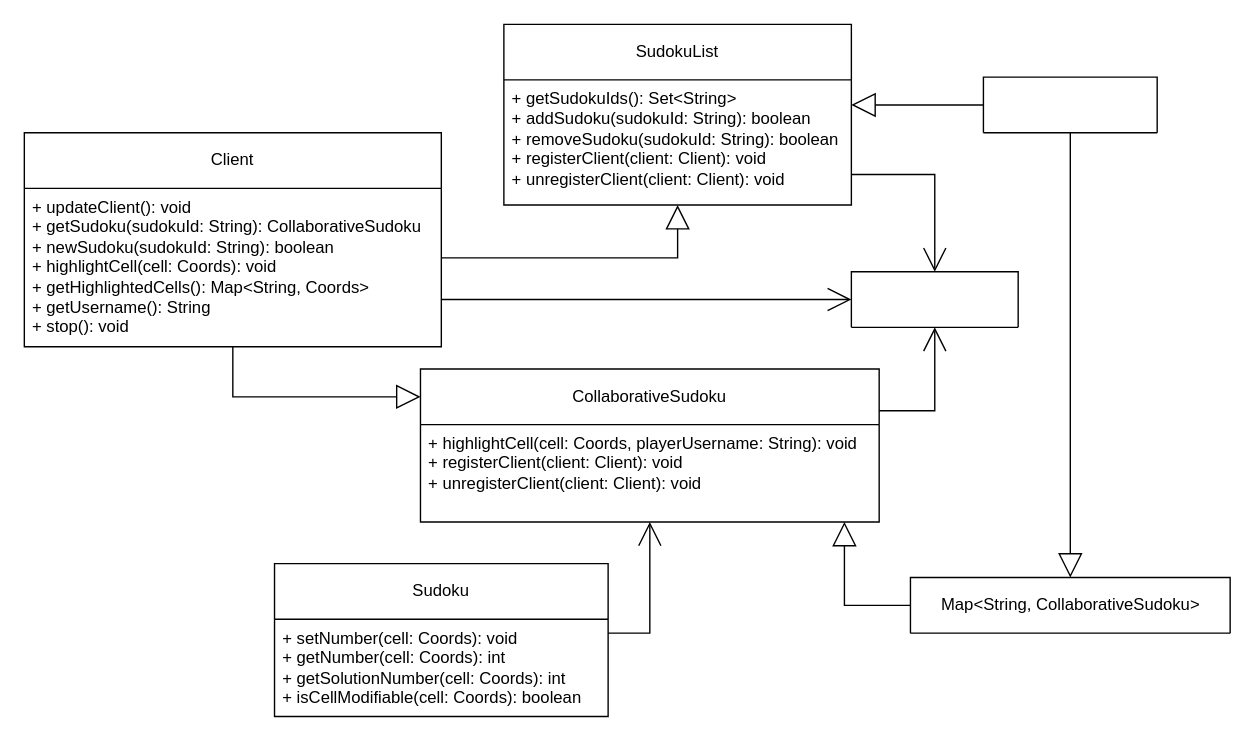
Some shapes in this 1255 by 745 pixel diagram are drawn without their labels. Here are the shapes that lost their labels. From the top down, the centre of each, then its label:
[1069,104]: Server
[934,298]: Remote
